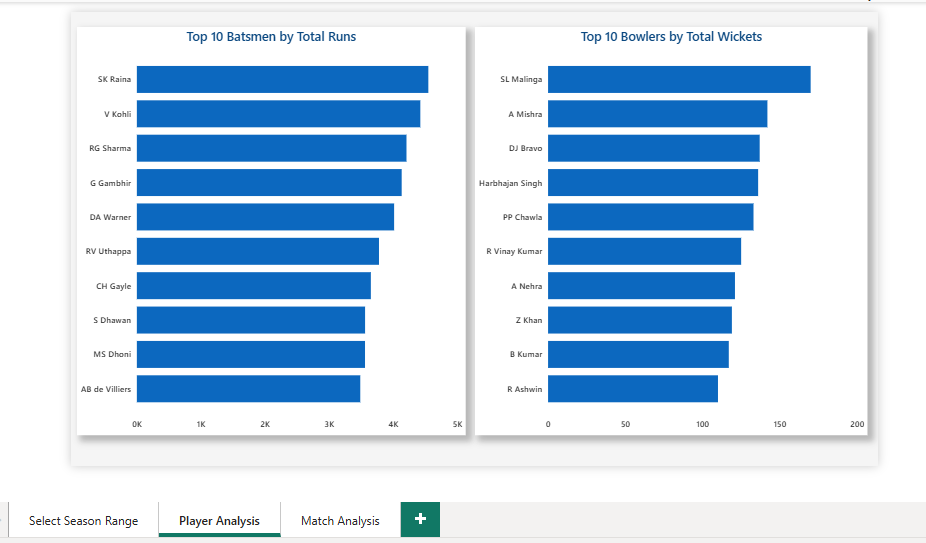

The dashboard page shown, as its layout file describes it:
{"tool":"powerbi","page":{"name":"Player Analysis","canvas":[1280,720],"ordinal":1},"visuals":[{"type":"barChart","title":"Top 10 Batsmen by Total Runs","fields":{"Category":["deliveries.batsman"],"Y":["Sum(deliveries.batsman_runs)"]},"box":[10,23.3,616.7,648.3],"z":0},{"type":"clusteredBarChart","title":"Top 10 Bowlers by Total Wickets","fields":{"Category":["deliveries.bowler"],"Y":["deliveries.Total Wickets"]},"box":[641.7,23.3,623.3,648.3],"z":1000}]}

Visuals, with their boxes on the page's 1280x720 design canvas (x1, y1, x2, y2). These are canvas units, not pixel positions in the 926x543 screenshot, which may show the page scaled, cropped or inside an application window:
"Top 10 Batsmen by Total Runs" barChart: [left=10, top=23, right=627, bottom=672]
"Top 10 Bowlers by Total Wickets" clusteredBarChart: [left=642, top=23, right=1265, bottom=672]
